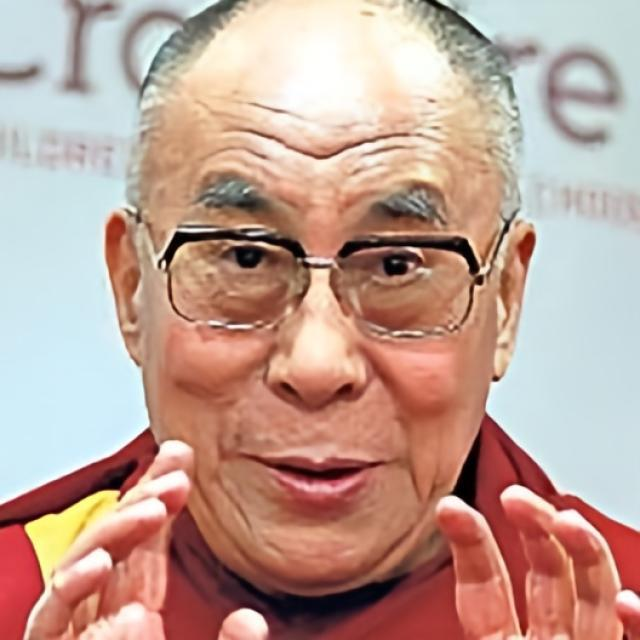surprise: (144, 46, 494, 597)
